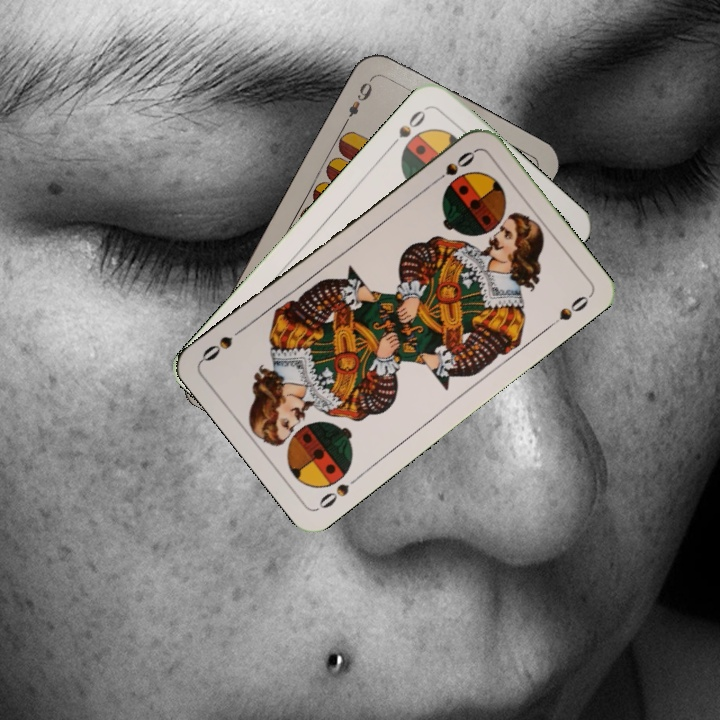E9: (340, 74, 376, 128)
SO: (427, 146, 478, 187), (386, 106, 429, 150), (314, 479, 352, 512)
